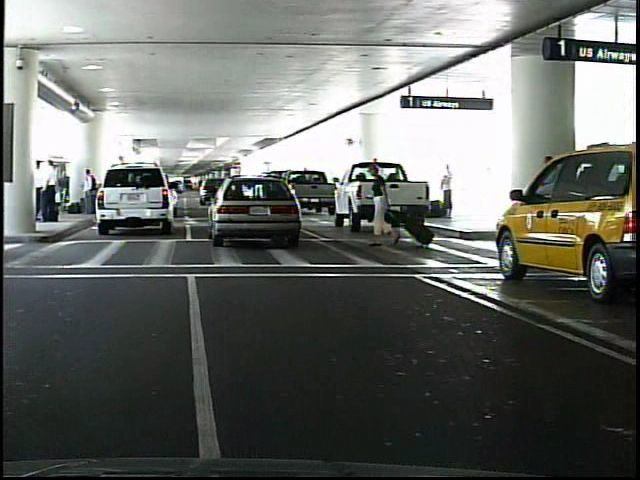person: (371, 162, 397, 250), (48, 160, 64, 225), (86, 166, 102, 221), (444, 160, 456, 218)
